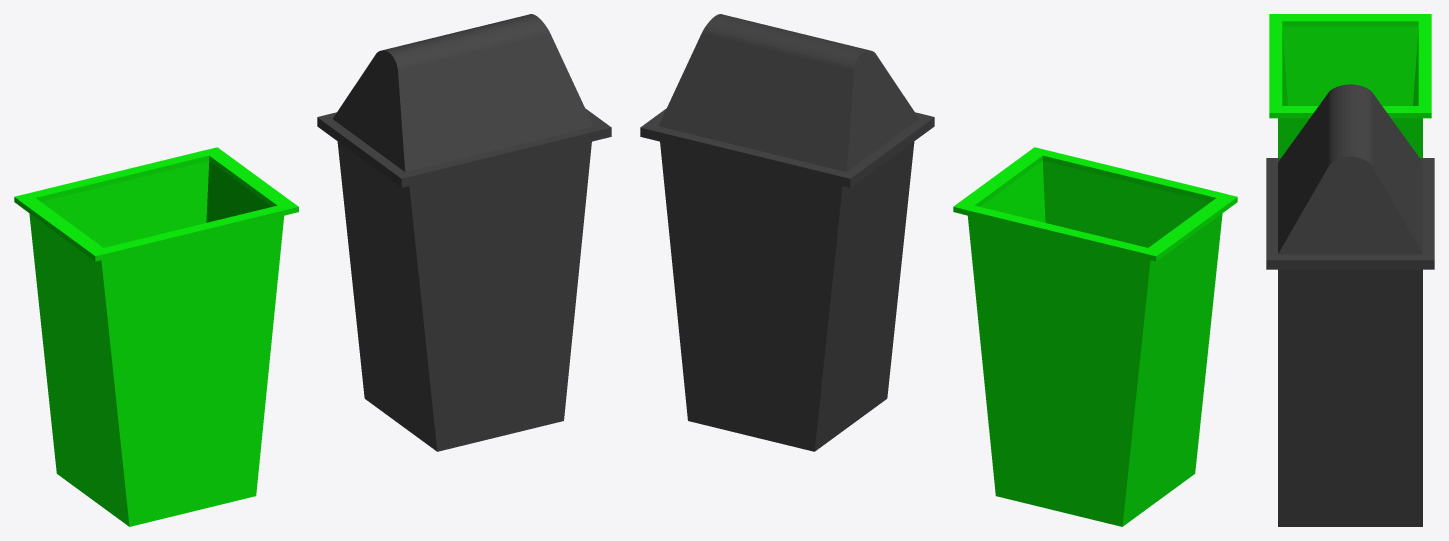
File: tacho.fbx
The picture shows the model from 3 angles, left to right: view 1: azimuth 30°, elevation 25°; view 2: azimuth 150°, elevation 25°; view 3: azimuth 270°, elevation 25°; orthographic projection.
Parts seen in each view (by area): view 1: Cube, Cube.001, Cube.002; view 2: Cube, Cube.001, Cube.002; view 3: Cube.001, Cube.002, Cube.
Part boxes in pixels (left/top/right/bottom): Cube: left=14, top=147, right=298, bottom=526; Cube.001: left=337, top=141, right=591, bottom=451; Cube.002: left=317, top=14, right=611, bottom=187; Cube: left=953, top=147, right=1237, bottom=526; Cube.001: left=660, top=141, right=914, bottom=451; Cube.002: left=640, top=14, right=934, bottom=187; Cube.001: left=1278, top=269, right=1422, bottom=526; Cube.002: left=1266, top=84, right=1434, bottom=269; Cube: left=1269, top=14, right=1431, bottom=157.
Size of the model in its own units: 817 by 570 by 232.
